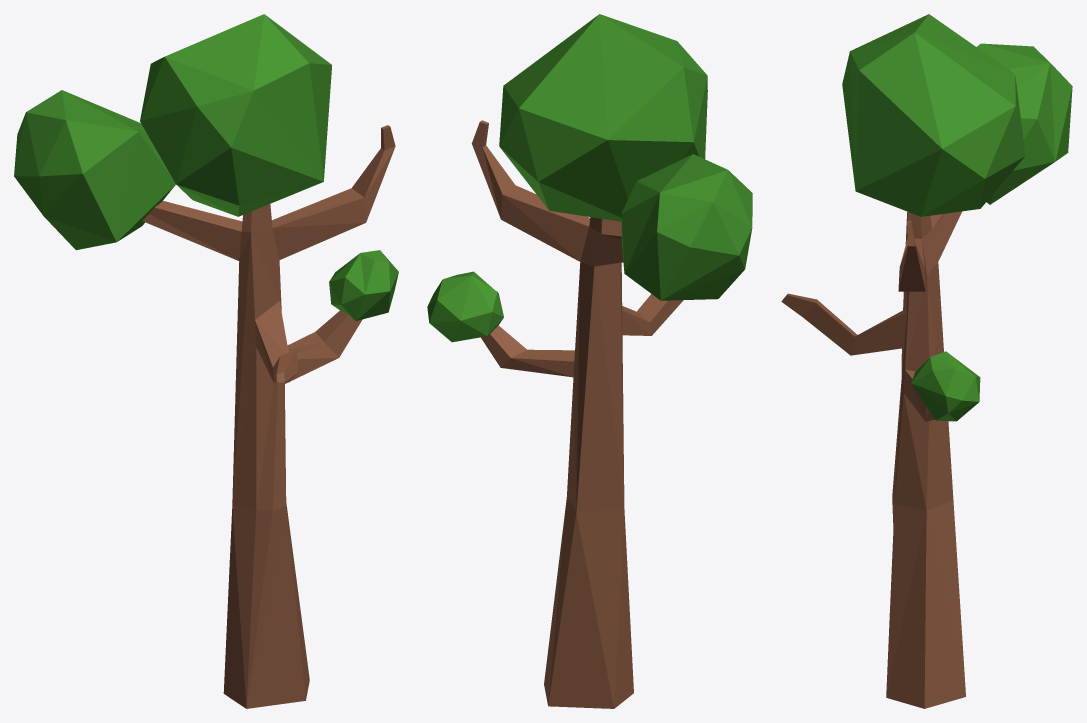
Rendered from Tree04.glb.
3 renders of one model, left to right at view 1: azimuth 30°, elevation 25°; view 2: azimuth 150°, elevation 25°; view 3: azimuth 270°, elevation 25°, orthographic. The views are drawn at different scales.
Parts seen in each view (by area): view 1: Tree_03; view 2: Tree_03; view 3: Tree_03.
Boxes of the visible parts, x1,y1,x2,y2 form: Tree_03: (14,14,398,708); Tree_03: (427,14,752,708); Tree_03: (781,14,1072,708).
Size of the model in its own units: 14.78 by 27.84 by 11.25.
1 material, 1 textured.
